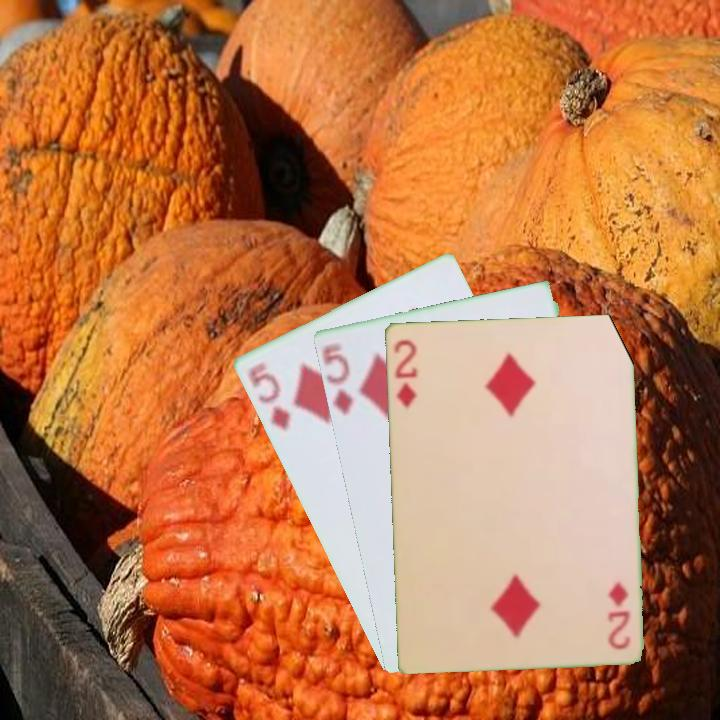2d: (390, 336, 420, 411), (604, 578, 633, 652)
5d: (246, 358, 292, 435), (318, 339, 355, 418)
